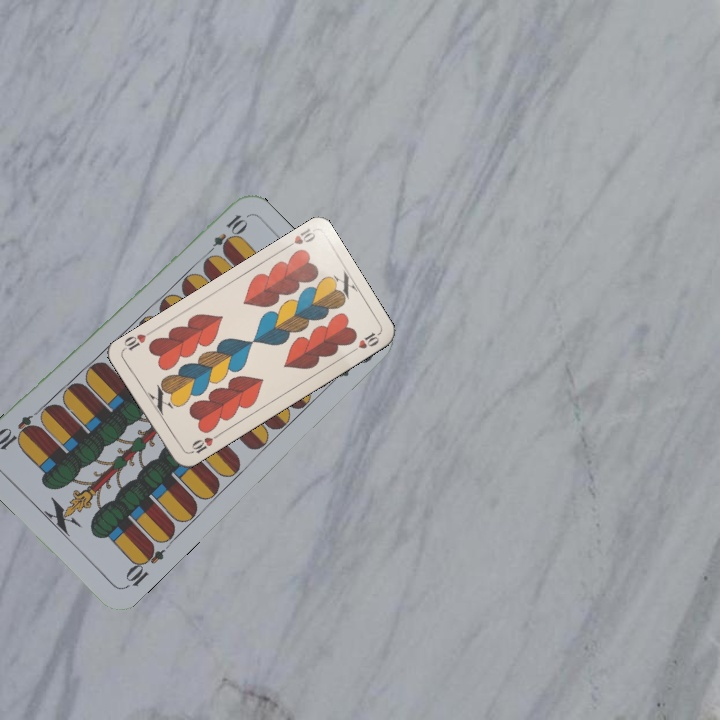E10: (120, 539, 167, 592), (201, 210, 249, 260)
H10: (280, 224, 318, 252), (184, 430, 221, 457)
